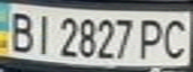2: (54, 12, 78, 59), (93, 15, 118, 60)
7: (112, 15, 139, 60)
8: (75, 15, 100, 60)
B: (3, 7, 39, 53)
C: (157, 15, 193, 60)
I: (30, 10, 57, 55)
P: (136, 16, 169, 60)
